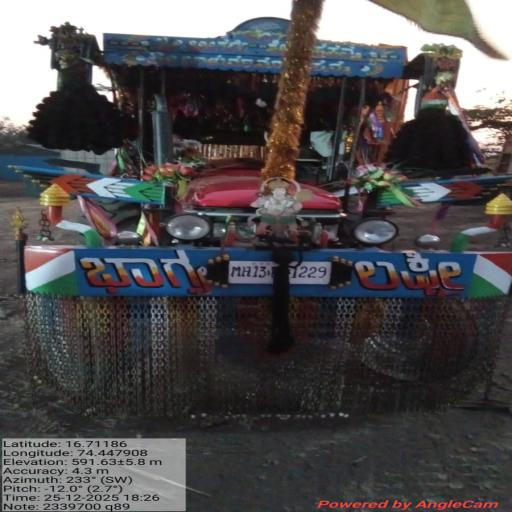number_plate: (222, 256, 348, 291)
